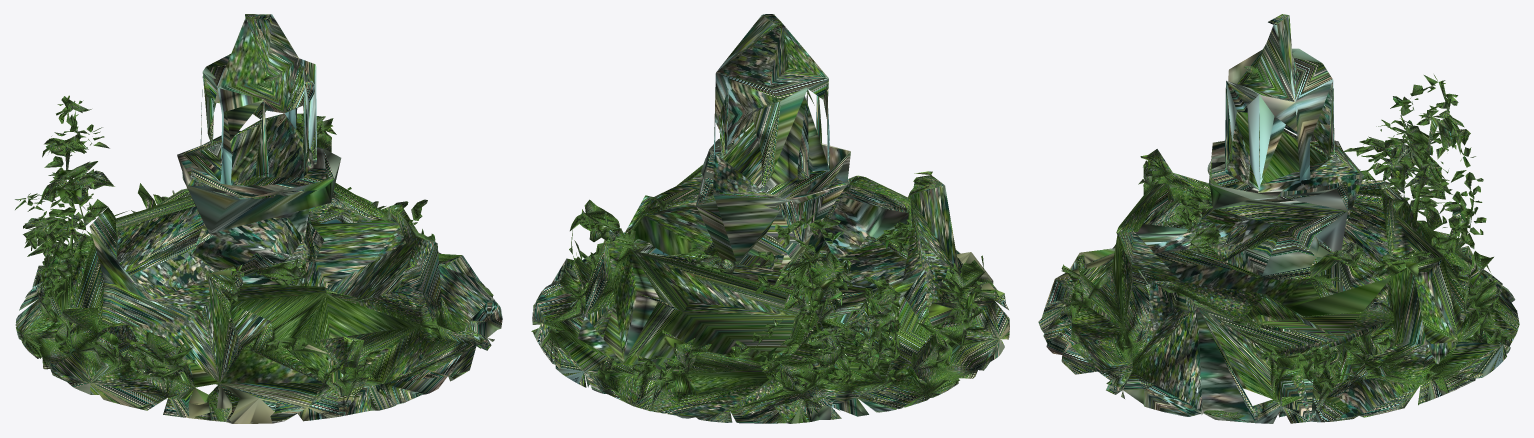
The model's file is Verdant_Cascade_Fount.glb.
3 renders of one model, left to right at view 1: azimuth 30°, elevation 25°; view 2: azimuth 150°, elevation 25°; view 3: azimuth 270°, elevation 25°, orthographic.
Visible parts, largest first — view 1: Verdant_Cascade_Fount; view 2: Verdant_Cascade_Fount; view 3: Verdant_Cascade_Fount.
Boxes of the visible parts, left/top/right/bottom form: Verdant_Cascade_Fount: left=15, top=14, right=502, bottom=423; Verdant_Cascade_Fount: left=531, top=14, right=1009, bottom=423; Verdant_Cascade_Fount: left=1038, top=14, right=1519, bottom=423.
Bounding box in the file's own units: 1.88 × 1.33 × 1.89.
1 material, 1 textured.
